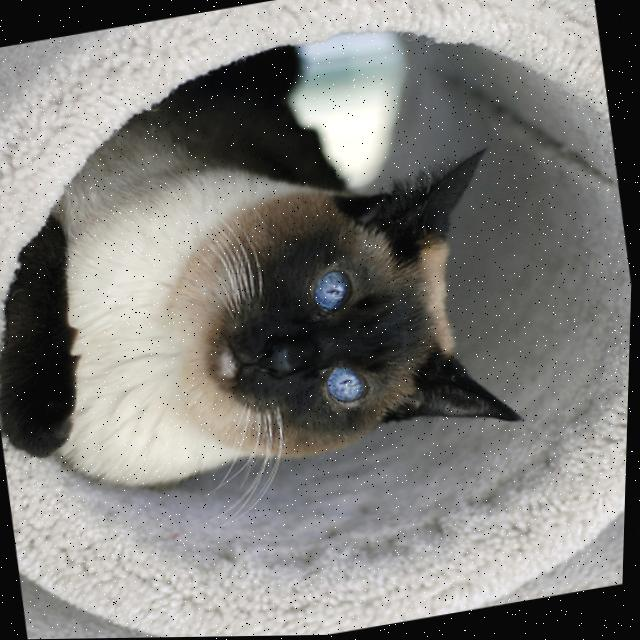Siamese: (0, 7, 545, 516)
